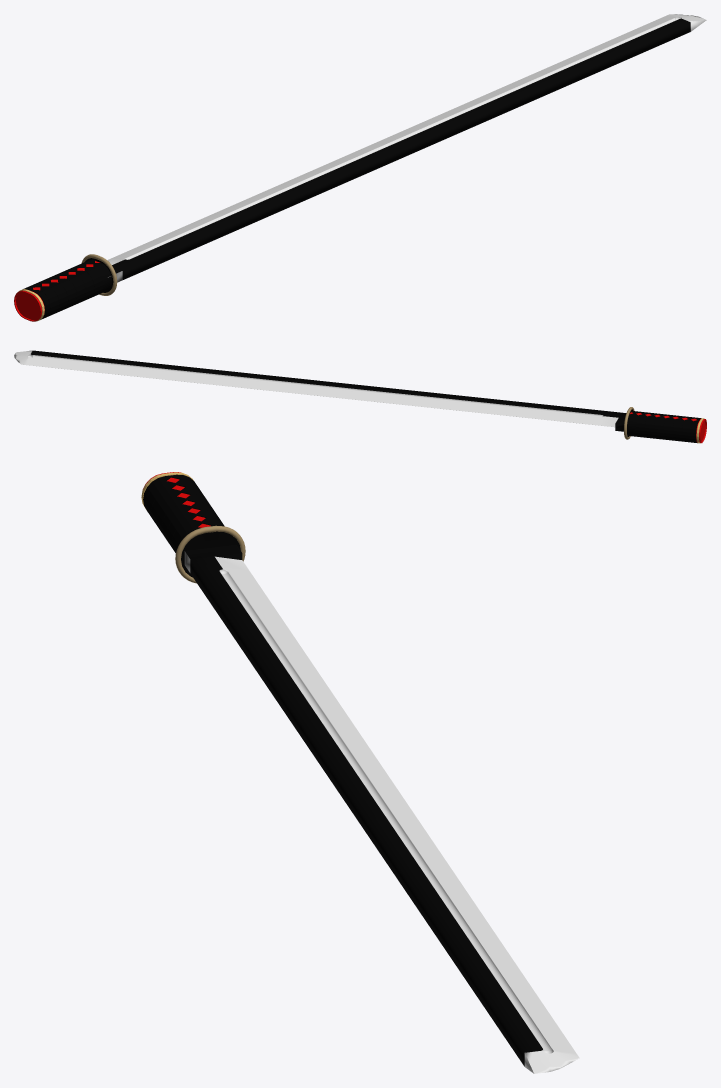
The model's file is sword.fbx.
3 renders of one model, top to bottom at view 1: azimuth 30°, elevation 25°; view 2: azimuth 150°, elevation 25°; view 3: azimuth 270°, elevation 25°, orthographic. The views are drawn at different scales.
Parts seen in each view (by area): view 1: pasted__polySurface23; view 2: pasted__polySurface23; view 3: pasted__polySurface23.
Boxes of the visible parts, <box> form: pasted__polySurface23: <box>14,14,706,321</box>; pasted__polySurface23: <box>14,350,706,443</box>; pasted__polySurface23: <box>141,472,579,1073</box>.
Bounding box in the file's own units: 54.92 × 2.47 × 17.38.
